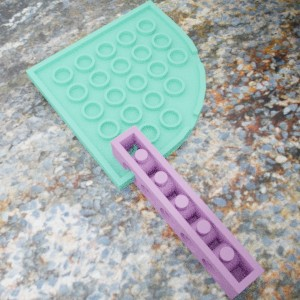lego: (25, 0, 205, 190), (110, 125, 264, 300)
